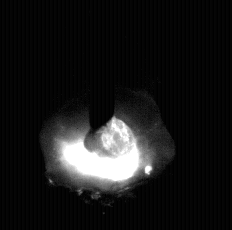arame: (90, 0, 115, 135)
poca: (40, 0, 174, 230)
